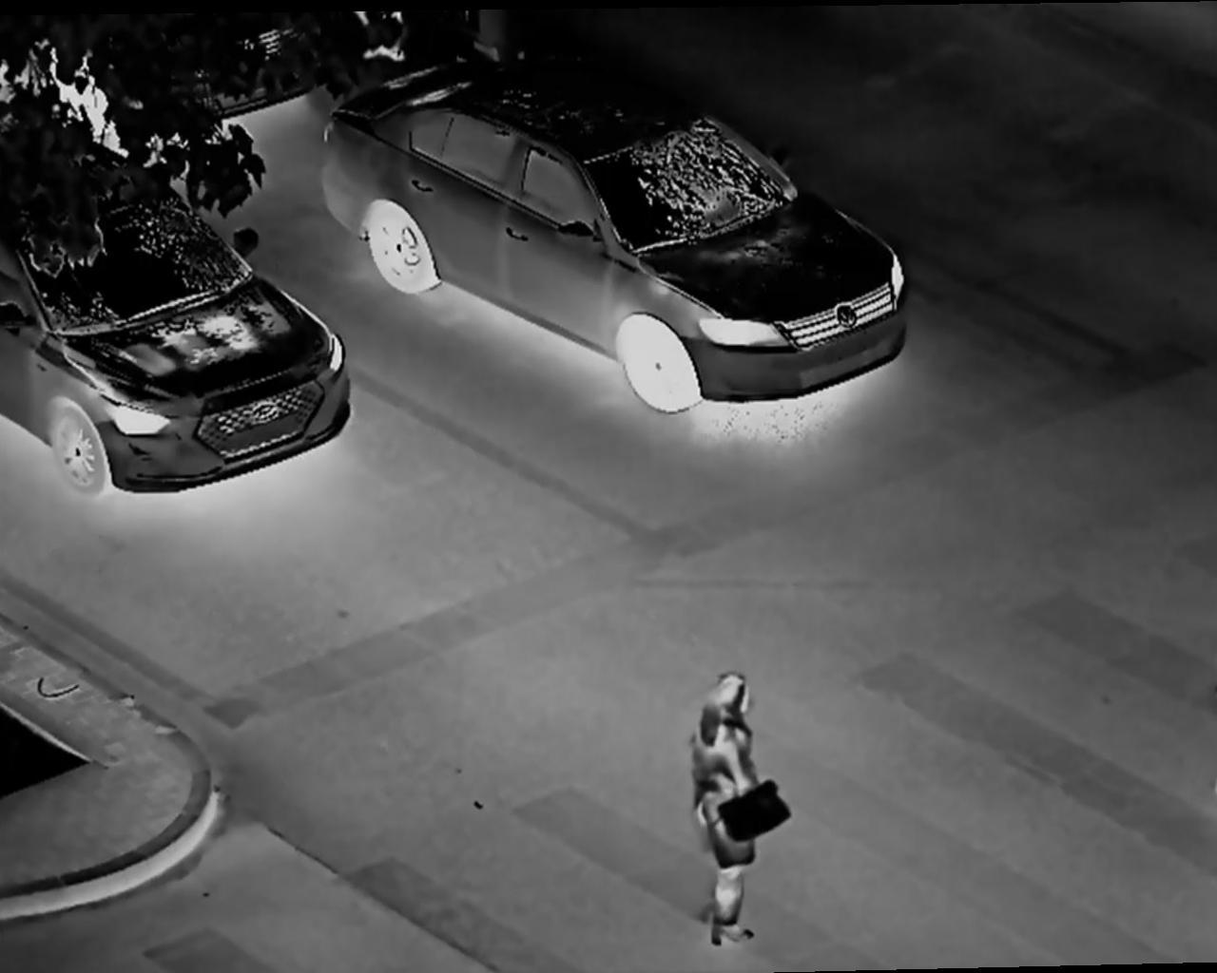person: (677, 662, 796, 947)
